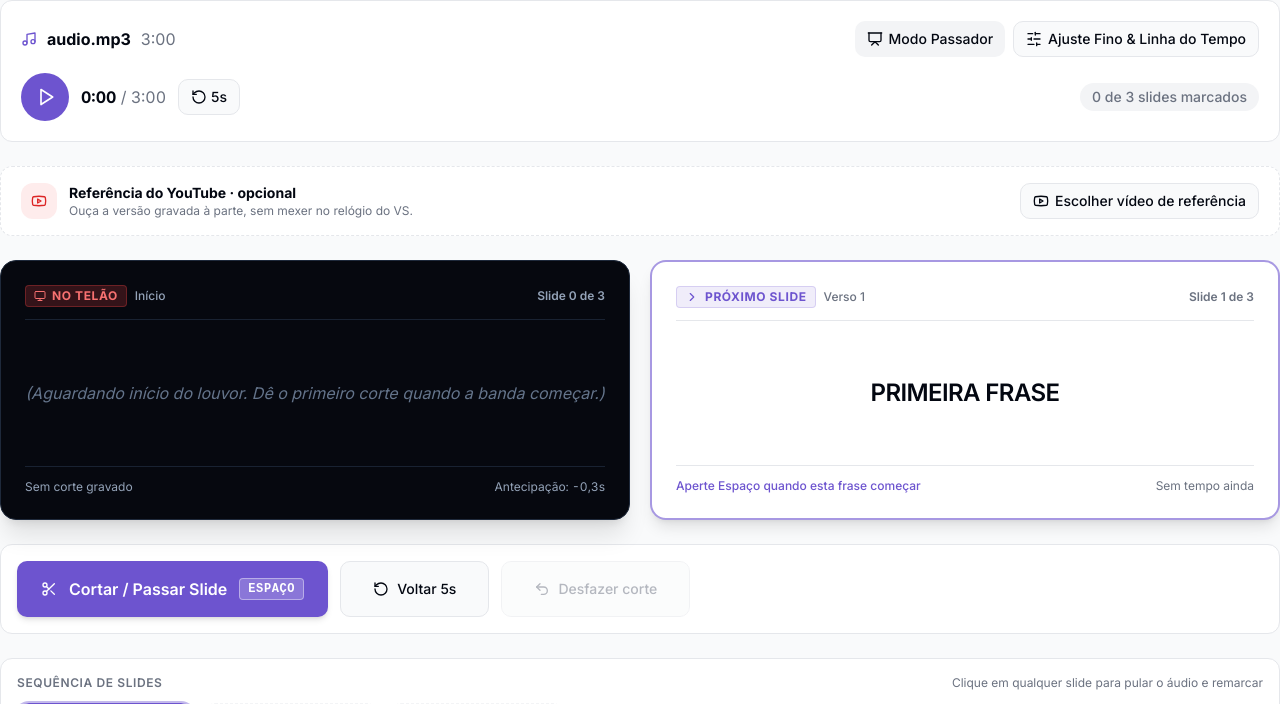
Test: TimingStep - Modo Passador de Slides › alterna para o modo avançado ao clicar no botão
This screenshot has width=1280, height=704.
Click the button "Ajuste Fino & Linha do Tempo" at (1136, 39), box [1013, 21, 1259, 57]
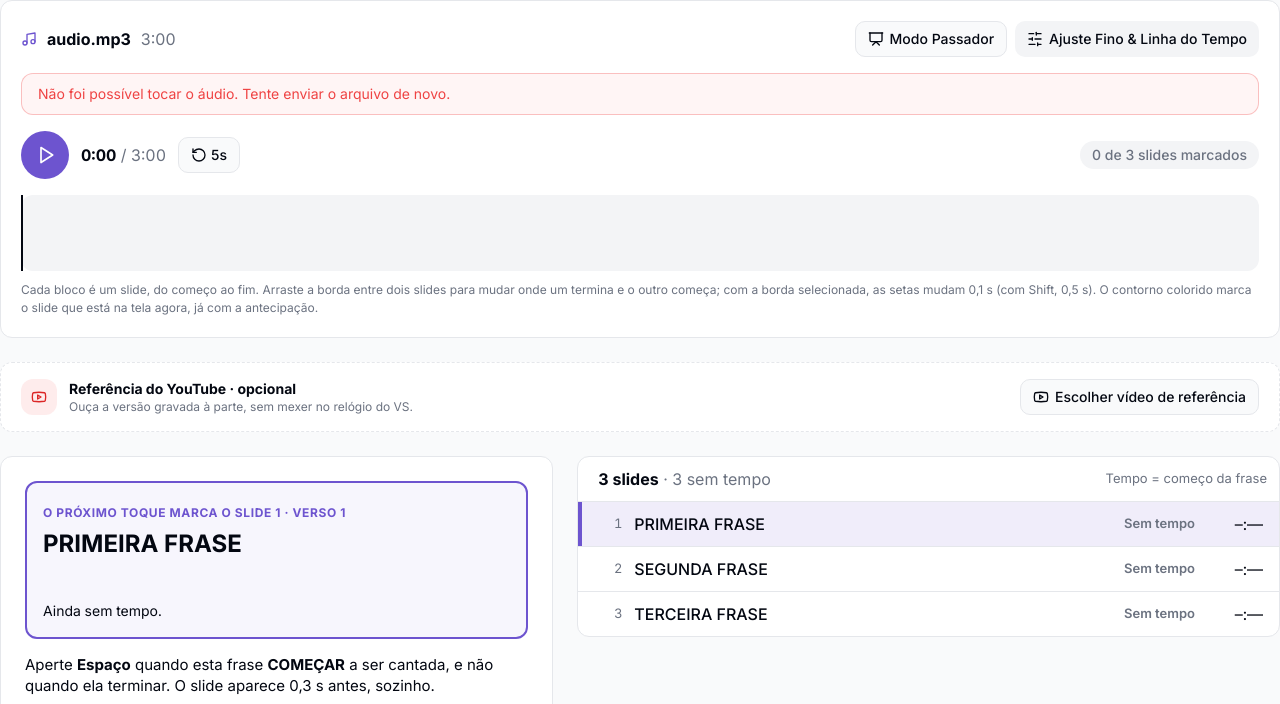
Result: the text "Tempo = começo da frase" is shown at [1106, 469, 1267, 489]
